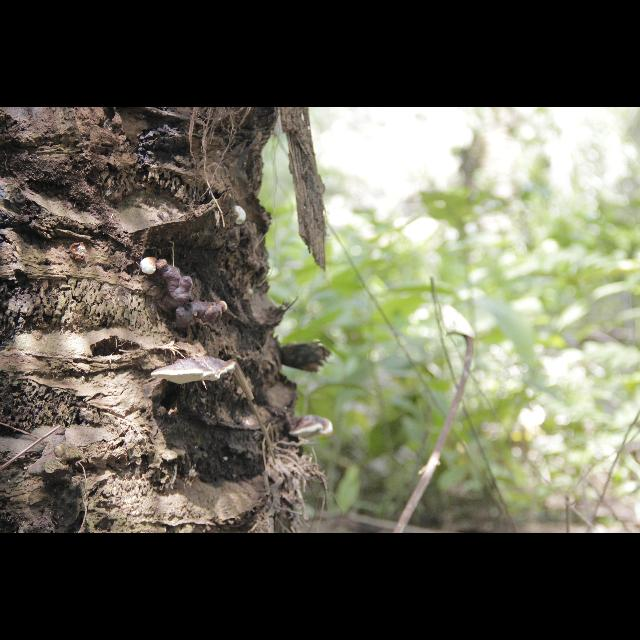ganoderma: (159, 259, 219, 332), (152, 357, 238, 387), (290, 416, 334, 443)
primordium: (141, 258, 158, 276), (235, 206, 247, 226), (220, 302, 228, 315)
